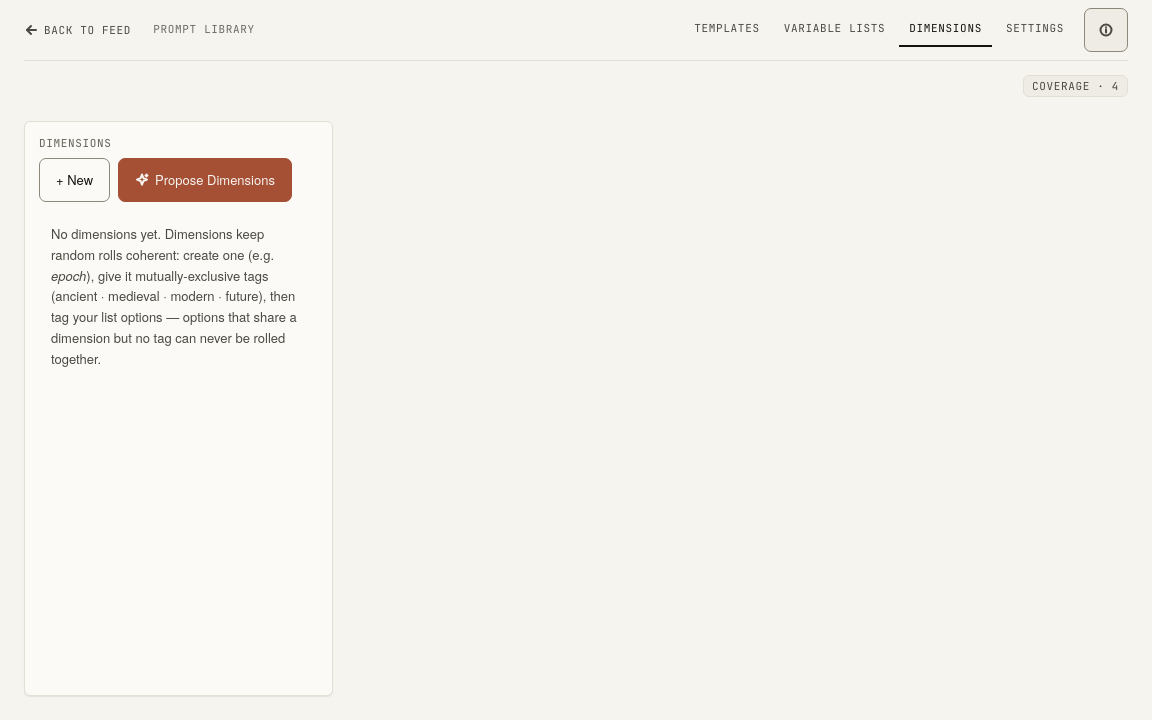
Test: PromptManager coverage surfacing › pending badge shows the untagged count and opens the card
Click the button "Coverage · 4": (1075, 86) [1023, 75, 1128, 97]
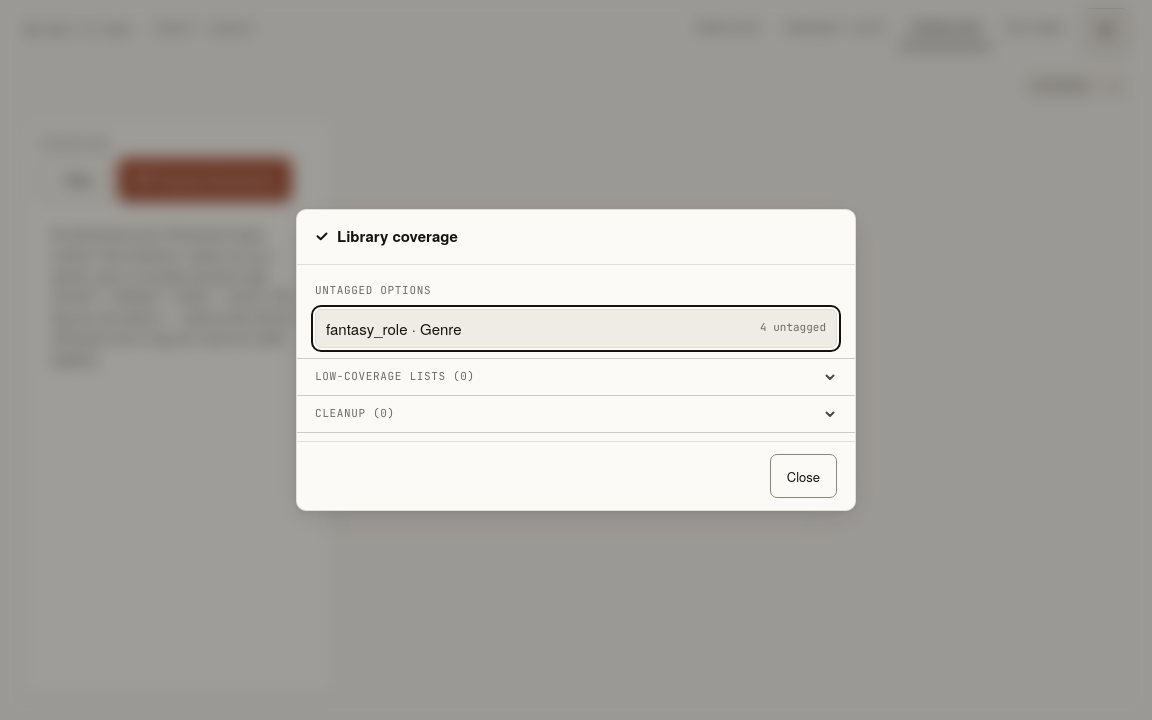
Expected: the text "fantasy_role · Genre" is shown, [326, 318, 462, 339]
